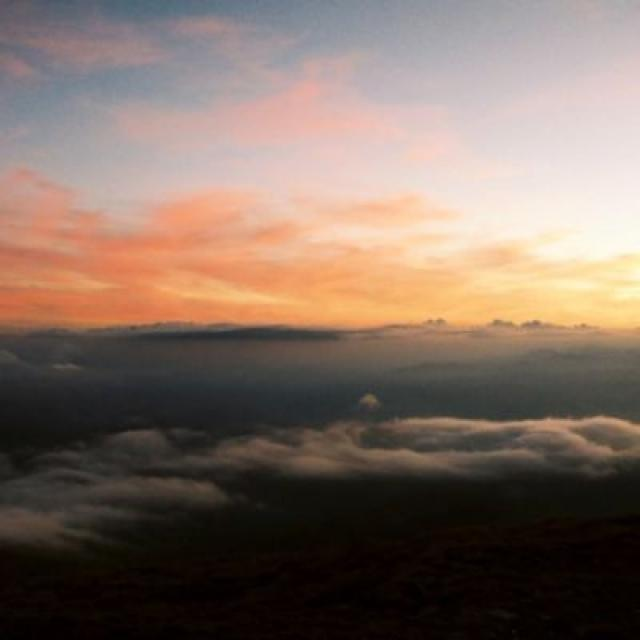Ci: (2, 124, 640, 593)
